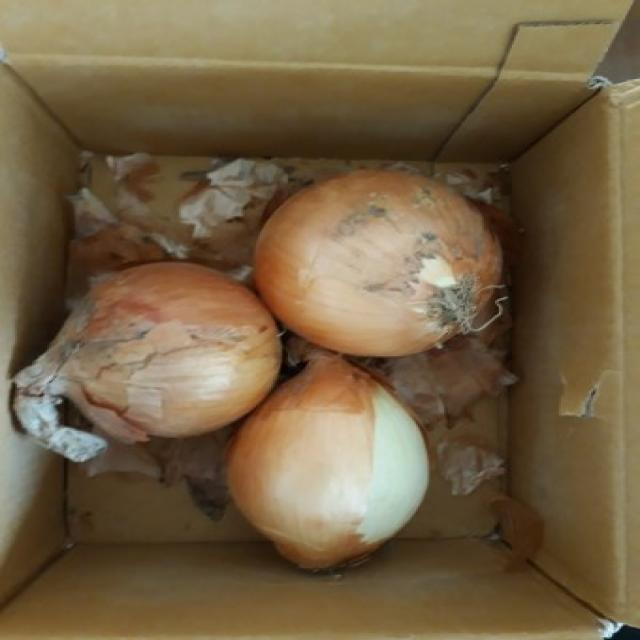onion: (10, 262, 283, 464), (223, 340, 433, 573), (253, 171, 502, 358)
